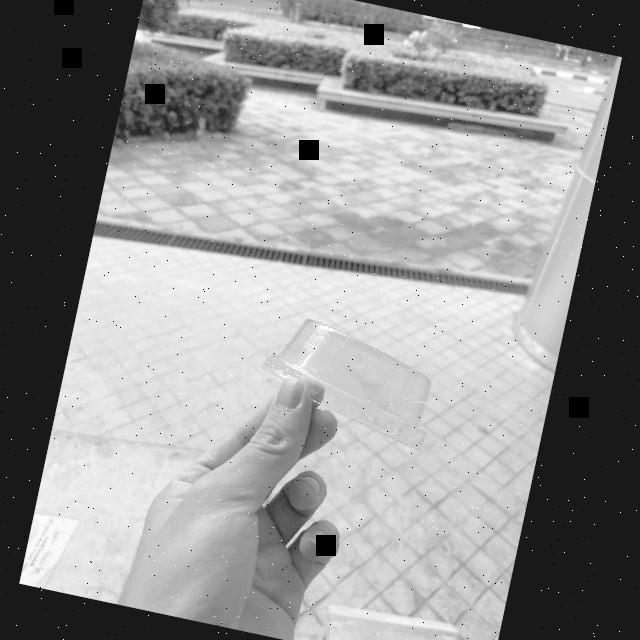plastic_cup_lid: (256, 310, 452, 458)
